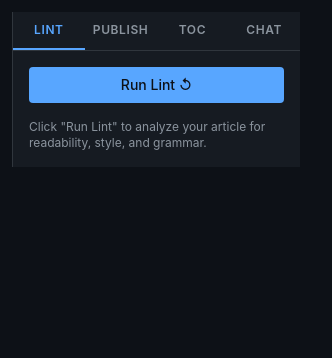
Scenario: SidePanel › Lint Tab - Functionality › should display lint results after clicking Run Lint
Click the button "Run Lint ↺".
click(156, 85)  # box [29,67,284,103]
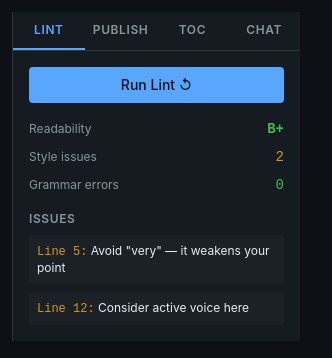
Expected: the text "Readability" is shown, [29,121,92,137]
Result: the text "Style issues" is shown at [29,149,97,165]
Result: the text "Grammar errors" is shown at [29,177,119,193]
